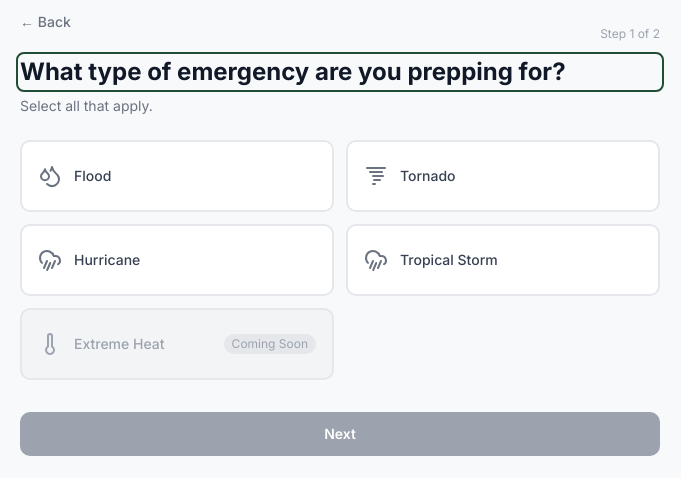
Test case: MCQEmergencyTypeScreen › Next CTA saves to store and navigates to /build/household
The width and height of the screenshot is (681, 478).
Click the checkbox labelled "Flood" at (177, 176), box [20,140,334,212]
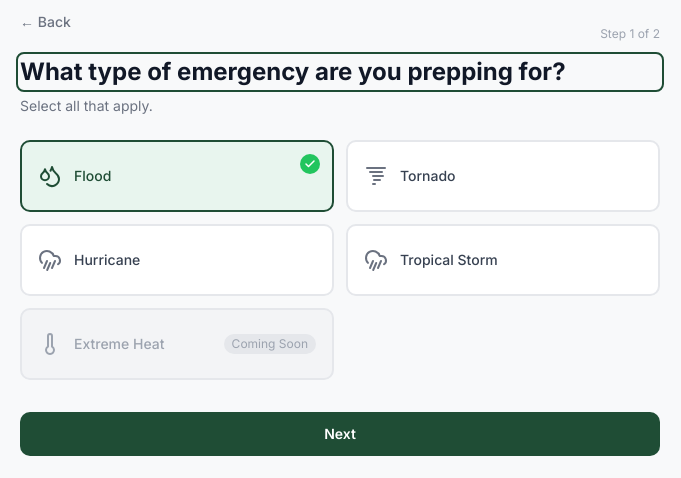
Click the checkbox labelled "Tornado" at (503, 176), box [346,140,660,212]
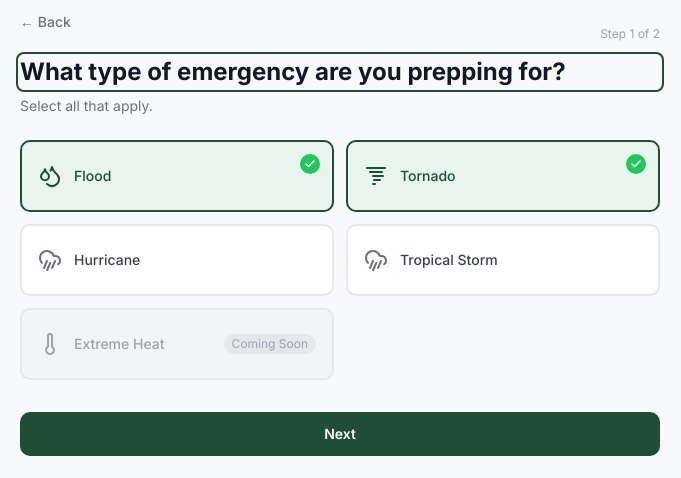
Click the button "Next" at (340, 434), box [20,412,660,456]
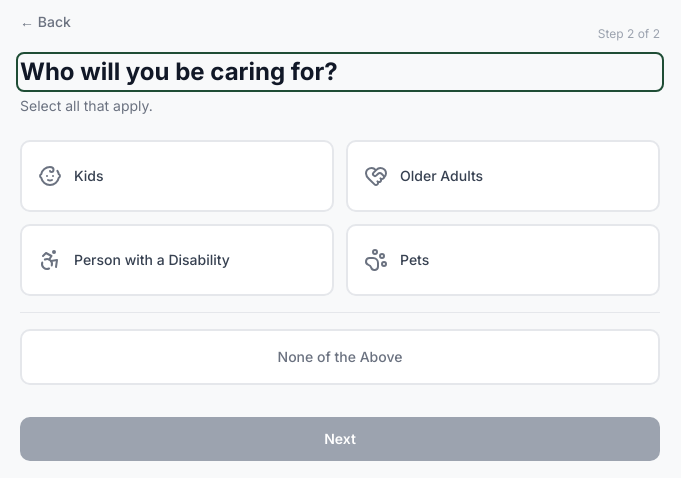
Expected: the heading "Who will you be caring for?" is shown, [20,57,338,86]
